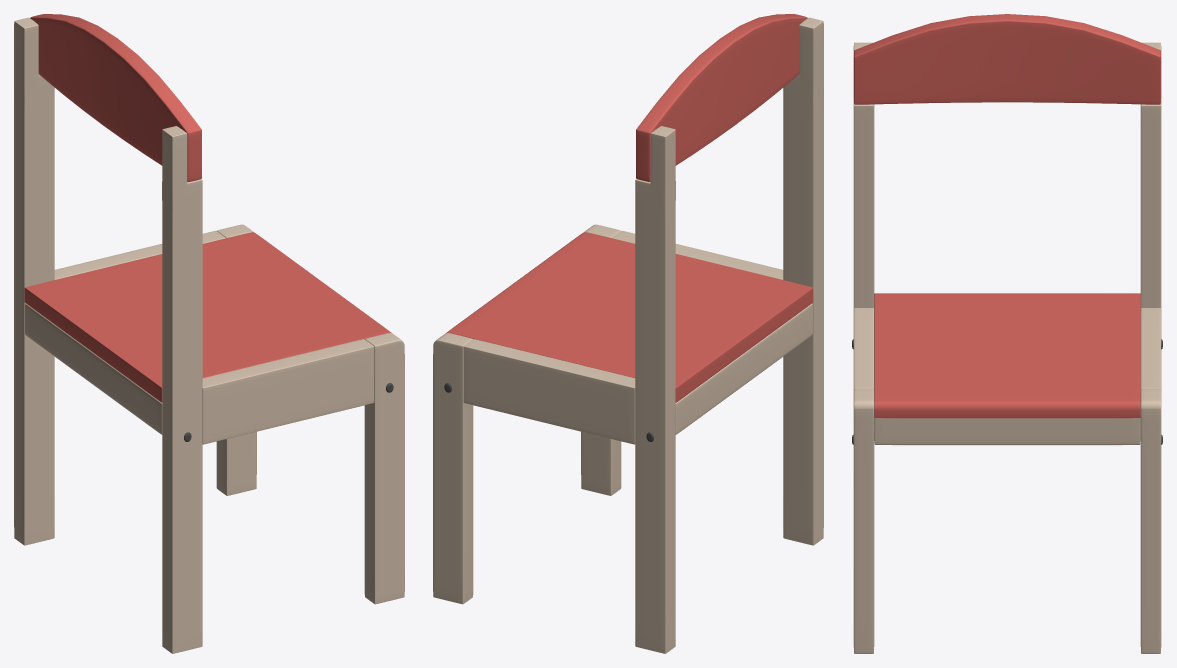
File: sisters-chair.fbx
3 views of the same model, side by side, from view 1: azimuth 30°, elevation 25°; view 2: azimuth 150°, elevation 25°; view 3: azimuth 270°, elevation 25° (orthographic). The views are drawn at different scales.
Visible parts, largest first — view 1: Kidtable:kidTable:chair3; view 2: Kidtable:kidTable:chair3; view 3: Kidtable:kidTable:chair3.
Part boxes in pixels (x1,y1,x2,y2): Kidtable:kidTable:chair3: [14, 14, 404, 653]; Kidtable:kidTable:chair3: [433, 14, 823, 653]; Kidtable:kidTable:chair3: [852, 14, 1162, 653].
Bounding box in the file's own units: 39.25 × 88.93 × 46.75.
